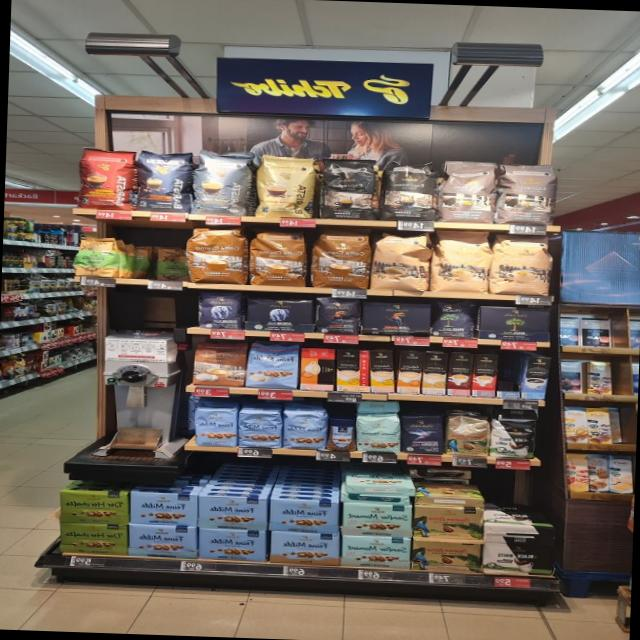AB Bohne: (194, 289, 246, 330)
AB Gemahlen: (241, 296, 317, 332)
Athiopien Bohne: (69, 235, 125, 278)
BM Bohne: (431, 298, 480, 338)
BM Gemahlen: (476, 306, 554, 342)
BW Bohne: (487, 415, 538, 459)
BW Gemahlen: (481, 542, 555, 576)
Barista CB: (252, 154, 321, 220)
Barista CC: (188, 148, 260, 218)
Barista Espresso: (133, 148, 198, 213)
Barista Kolumbien: (76, 147, 140, 210)
C Fino Bohne: (400, 412, 444, 454)
CC Mild: (486, 233, 556, 297), (426, 229, 494, 294), (368, 230, 434, 294)
CC Vollmundig: (188, 340, 250, 388)
CC Vollmundig 36 Pads: (182, 224, 252, 286), (308, 228, 372, 289), (246, 228, 311, 288)
Colombia BB Bohne: (442, 411, 490, 456)
Colombia BB Gemahlen: (410, 504, 486, 540), (408, 539, 484, 573)
Empty Shelf: (494, 354, 524, 398)
Espresso Aromatisch: (434, 158, 500, 226)
Espresso Kraftig: (376, 157, 439, 225)
Espresso M Art: (492, 160, 562, 227)
Espresso S Art: (314, 154, 384, 222)
FM 36 Pads: (242, 340, 304, 390)
FM Bohne: (281, 406, 328, 451), (236, 406, 284, 448), (194, 406, 238, 447)
FM Gemahlen: (266, 530, 342, 566), (195, 494, 270, 530), (266, 498, 342, 533), (125, 522, 198, 558), (127, 491, 200, 526), (195, 528, 268, 562)
FM Instant: (324, 417, 355, 452)
Herzhatfe Mundig: (58, 520, 128, 556), (58, 489, 128, 524)
LG Bohne: (312, 296, 360, 336)
LG Gemahlen: (358, 300, 432, 336)
SM Bohne: (354, 411, 401, 453)
SM Gemahlen: (339, 535, 414, 570), (340, 502, 413, 537)
Simo CCMild: (334, 347, 370, 392)
Simo CCMild bigpack: (369, 349, 395, 392)
Simo CCVollmundig bigpack: (394, 350, 424, 394)
Simo Decaff: (419, 350, 448, 395)
Simo Es Elegant: (469, 354, 498, 398)
Simo Es Kraft: (444, 352, 474, 396)
Simo Kaffee Mild: (520, 356, 550, 399)
